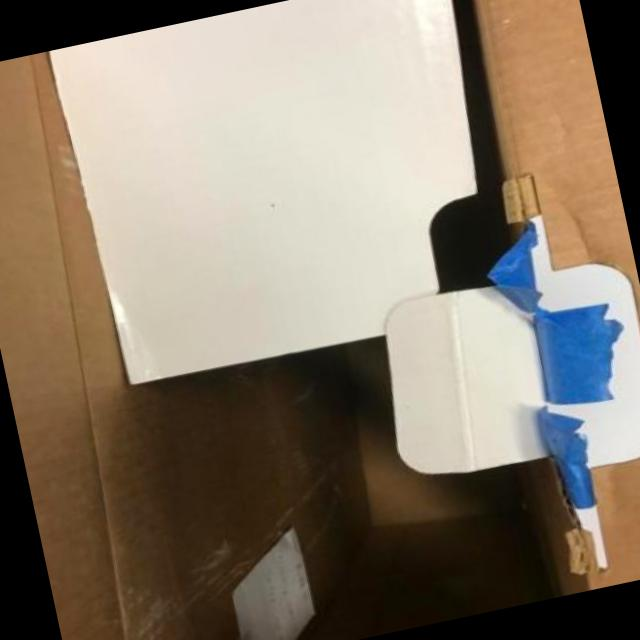cardboard paper: (0, 51, 640, 640)
